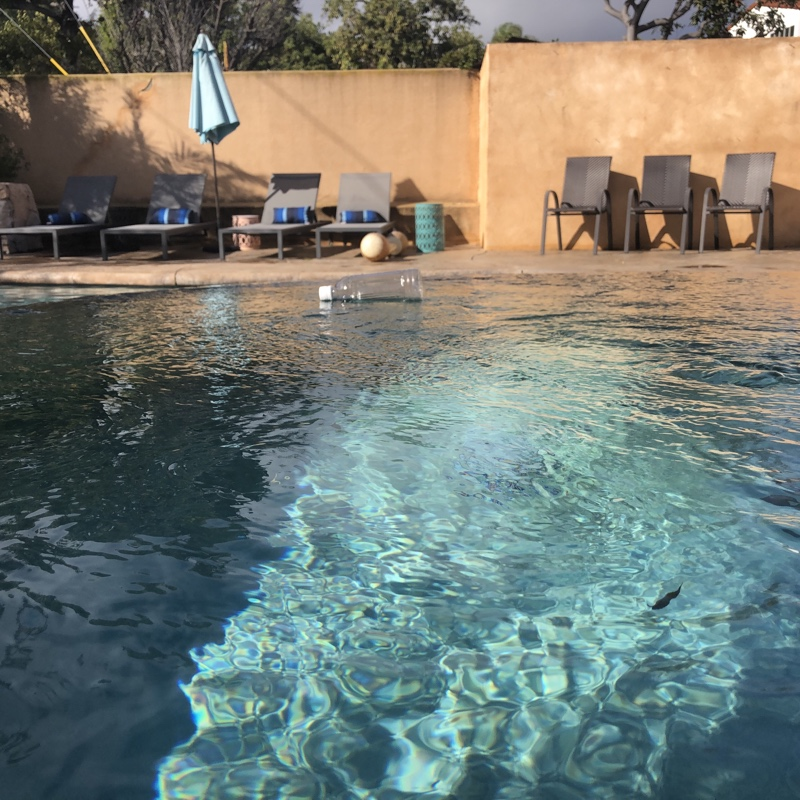Plastic Bottle: (315, 268, 426, 306)
